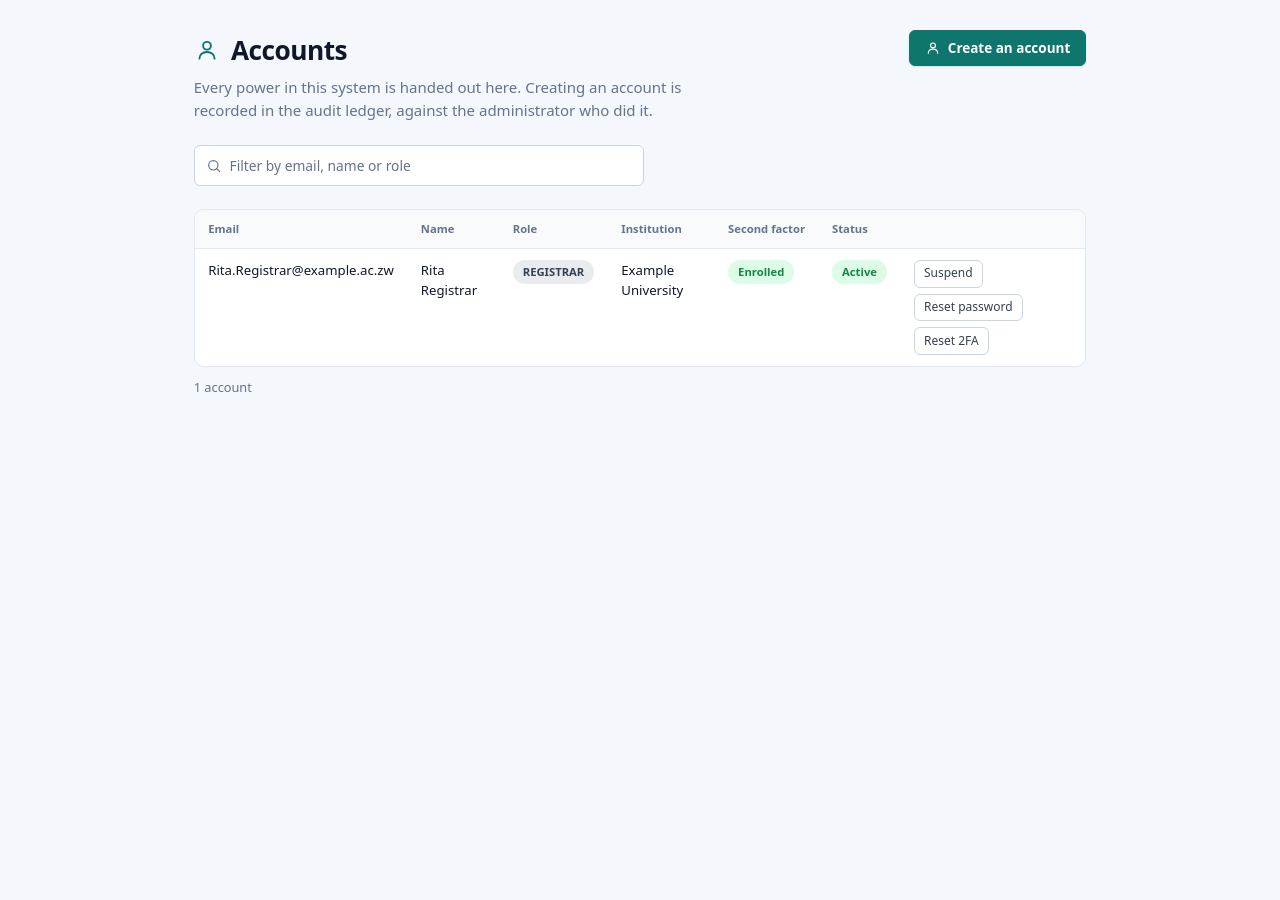
it: UserListComponent › the row actions › suspends on confirmation, and reloads the list afterwards
Click the button "Suspend".
click(948, 274)  # box [914,260,983,288]
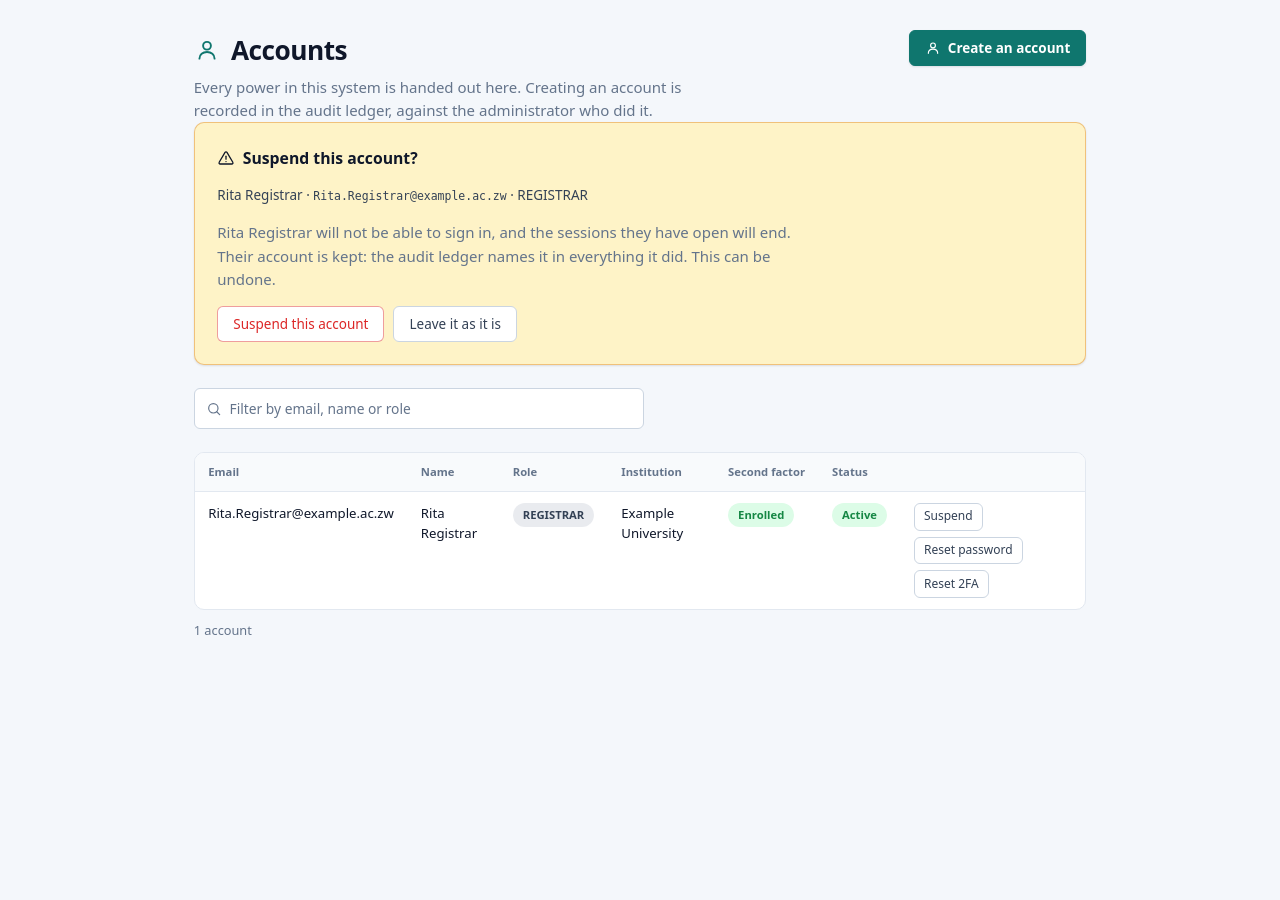
Click the button "Suspend this account".
click(301, 324)  # box [217,306,384,342]
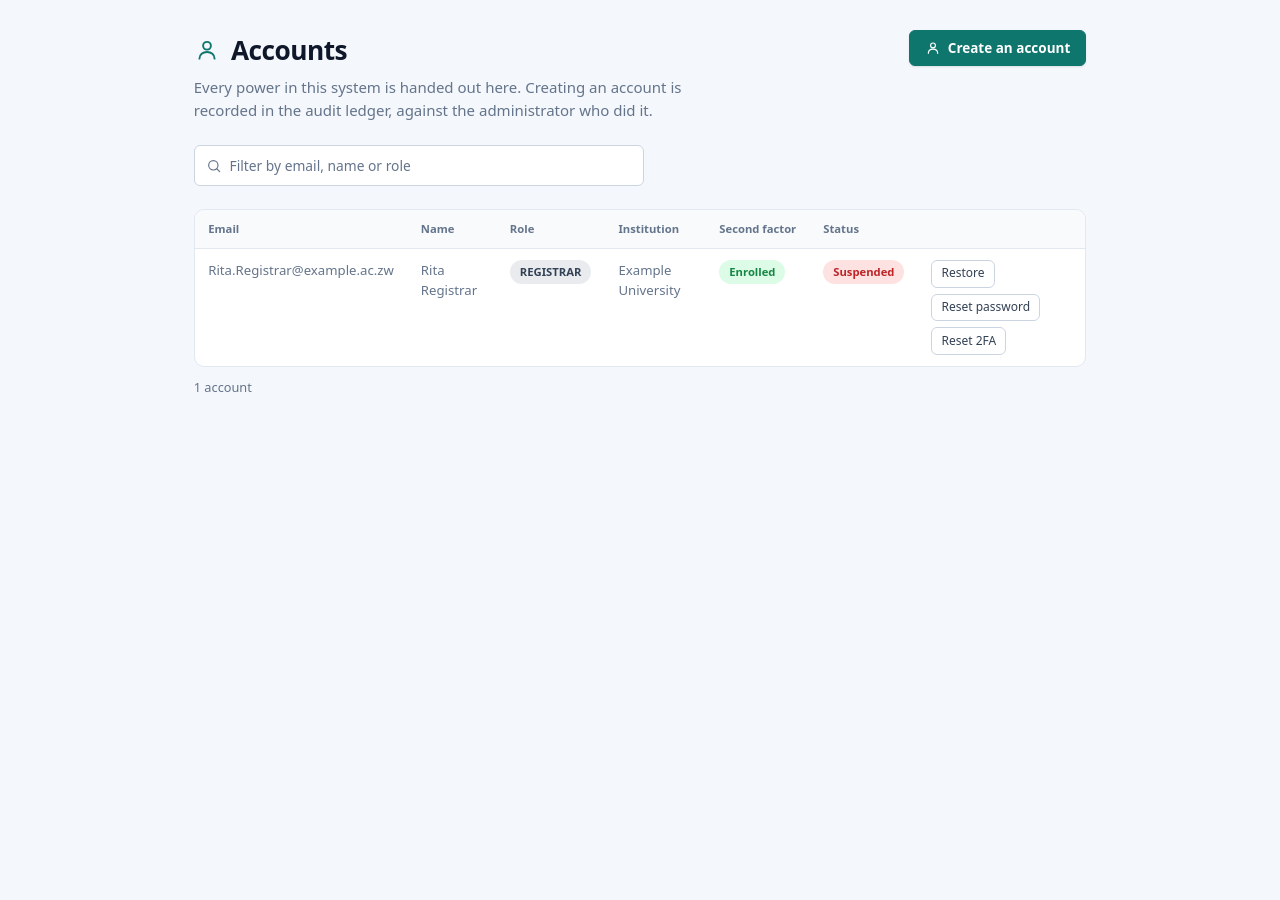
Expected: the text "Suspended" is shown, [823,260,904,284]
Expected: the text "Restore" is shown, [932,260,995,288]
